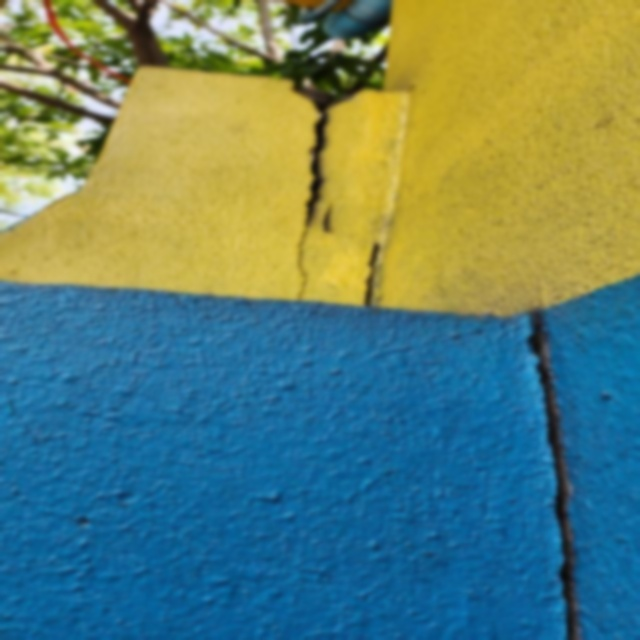SurfaceCrack: (3, 1, 416, 286), (498, 312, 624, 640)
